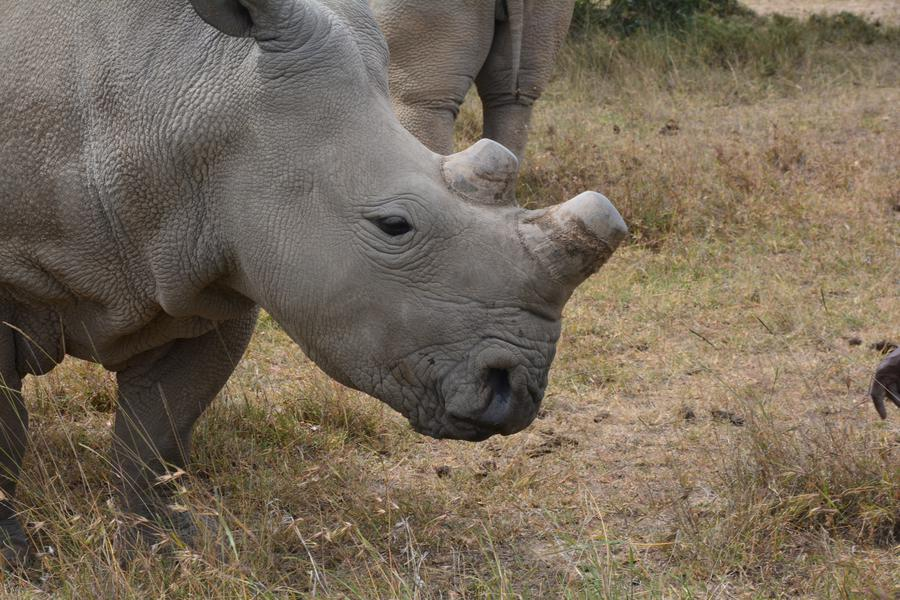rhino: (3, 10, 534, 520), (387, 10, 565, 156)
